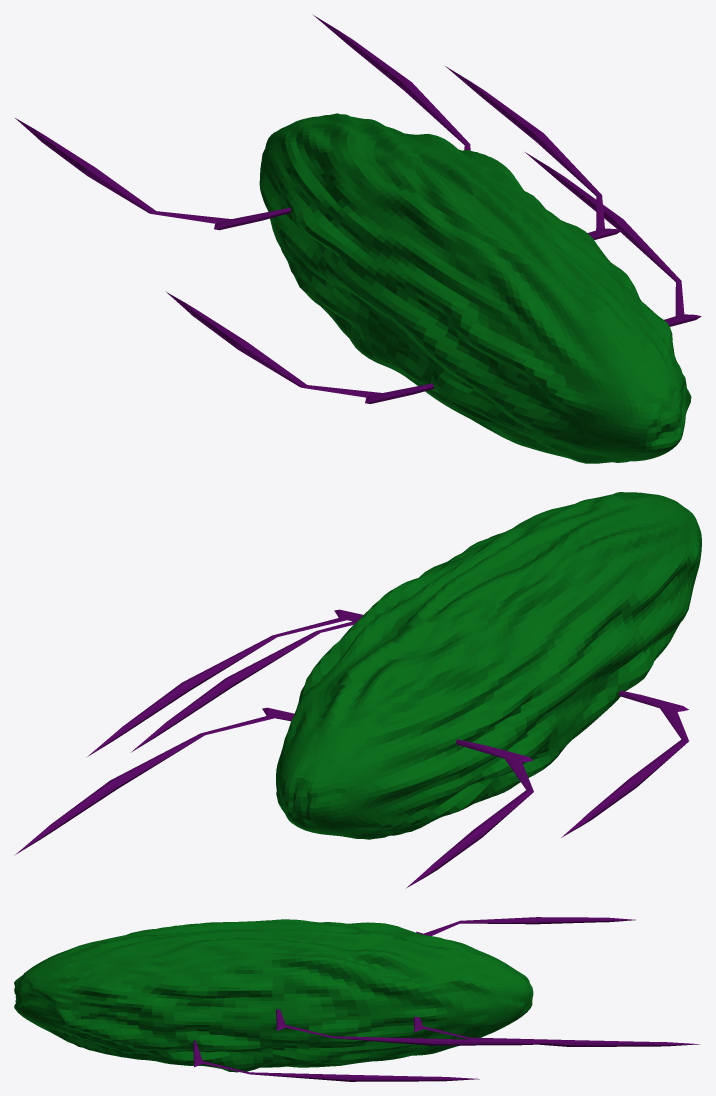
File: Virus Strange.fbx
3 views of the same model, one above another, from view 1: azimuth 30°, elevation 25°; view 2: azimuth 150°, elevation 25°; view 3: azimuth 270°, elevation 25° (orthographic). The views are drawn at different scales.
Parts seen in each view (by area): view 1: Sphere, Cube.003, Cube.001, Cube.002, Cube, Cube.004; view 2: Sphere, Cube.004, Cube.002, Cube.003, Cube.001, Cube; view 3: Sphere, Cube, Cube.002, Cube.004, Cube.003.
Part boxes in pixels (<box>): Sphere: <box>259,113,691,463</box>; Cube.003: <box>15,118,290,230</box>; Cube.001: <box>165,291,434,403</box>; Cube.002: <box>445,66,622,239</box>; Cube: <box>525,152,701,326</box>; Cube.004: <box>313,15,470,150</box>; Sphere: <box>276,492,701,839</box>; Cube.004: <box>14,707,294,855</box>; Cube.002: <box>86,609,362,757</box>; Cube.003: <box>406,739,533,888</box>; Cube.001: <box>561,690,688,837</box>; Cube: <box>130,621,356,752</box>; Sphere: <box>14,919,533,1072</box>; Cube: <box>193,1039,479,1081</box>; Cube.002: <box>276,1008,562,1045</box>; Cube.004: <box>413,1016,699,1046</box>; Cube.003: <box>416,917,635,935</box>.
Size of the model in its own units: 456 by 218 by 1005.
